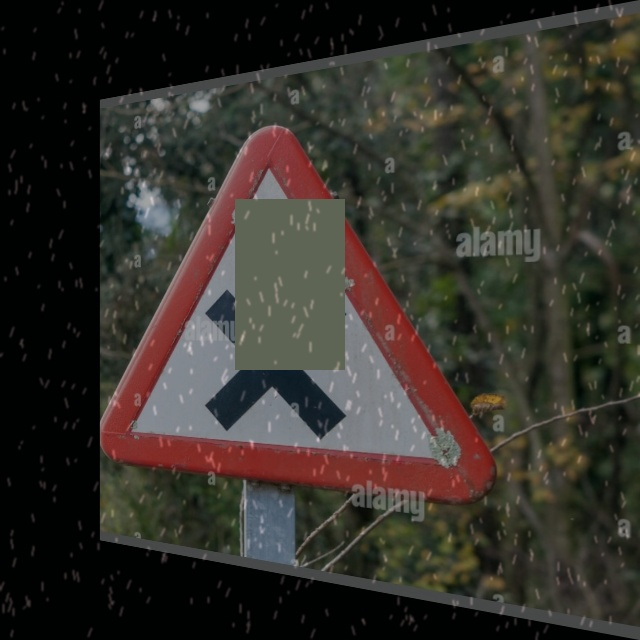Cross_Road: (109, 102, 488, 502)
